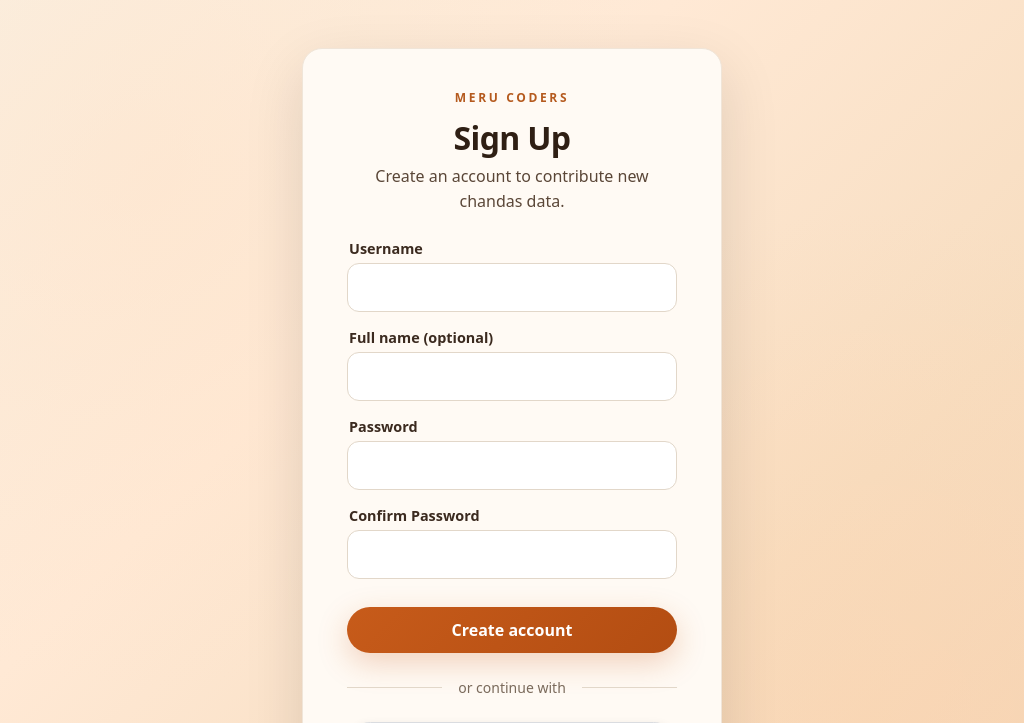
it: SignupPage › rejects a short password and a mismatched confirmation
Type " panini " into the field labelled "Username" at (512, 288), box x1=347 y1=263 x2=677 y2=312
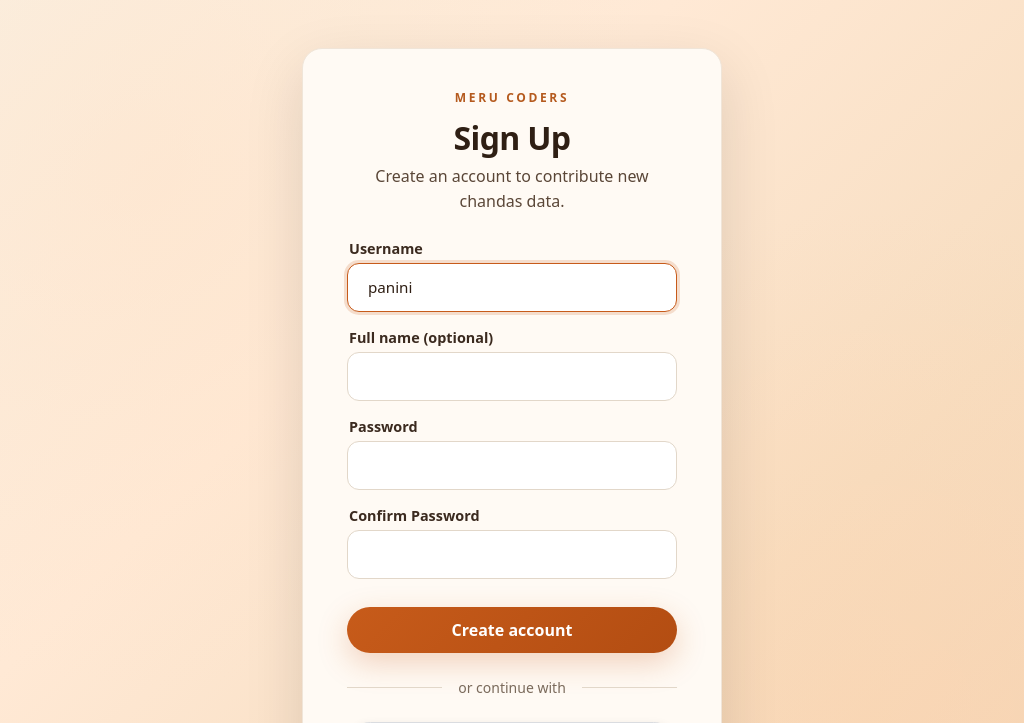
Type "short" into the password field labelled "Password" at (512, 465), box x1=347 y1=441 x2=677 y2=490
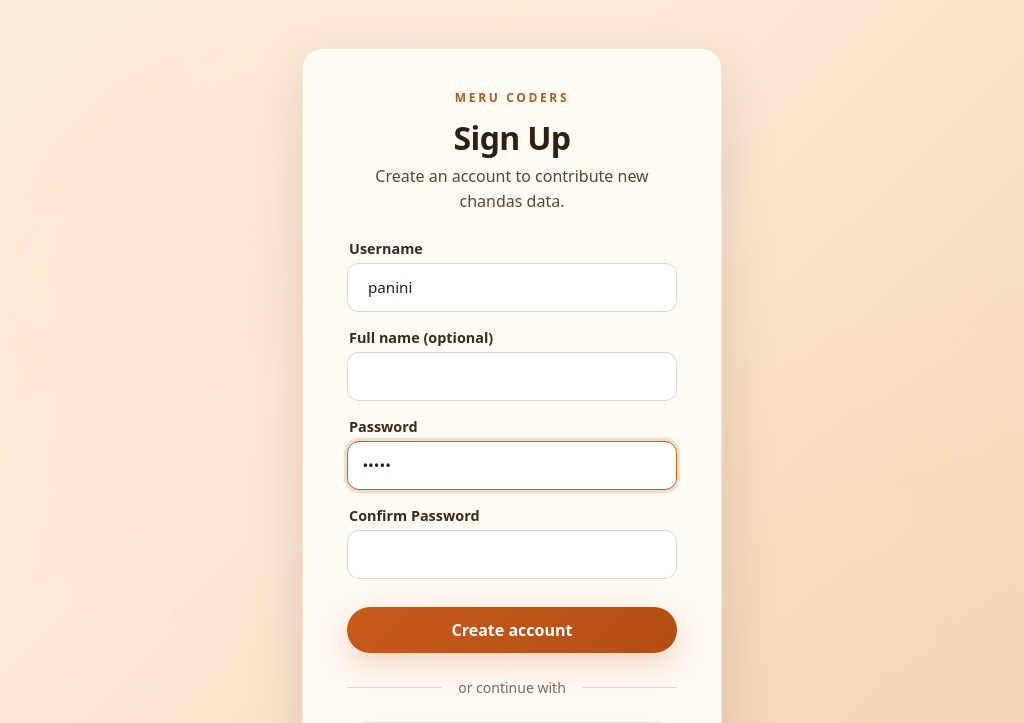
Type "other" into the password field labelled "Confirm Password" at (512, 554), box x1=347 y1=530 x2=677 y2=579
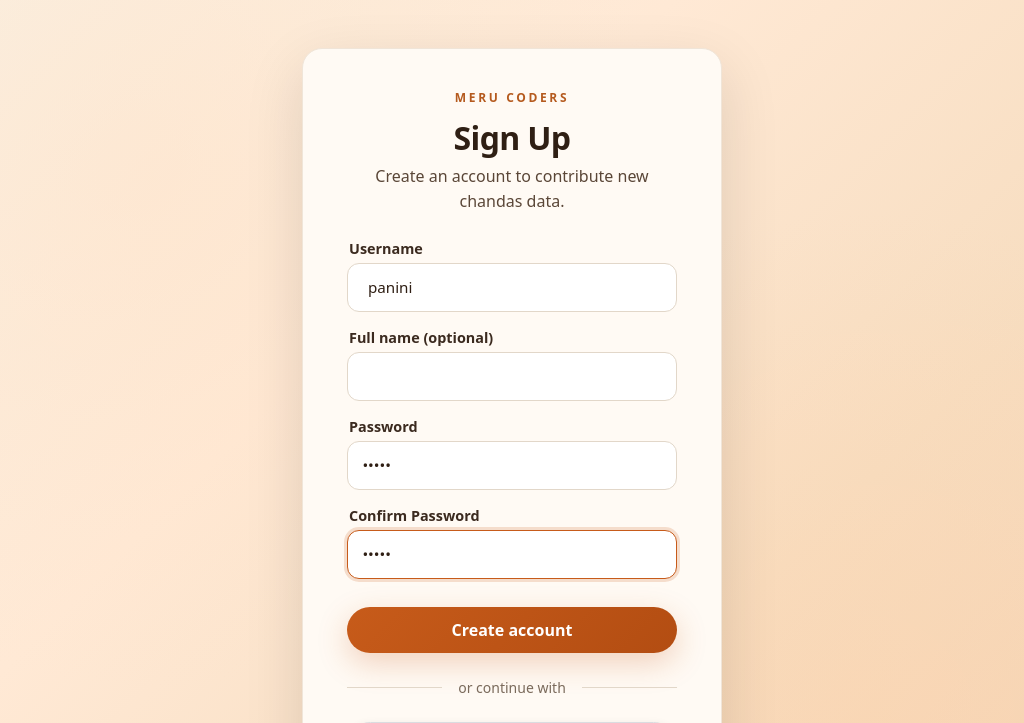
Click the button "Create account" at (512, 630), box x1=347 y1=607 x2=677 y2=653
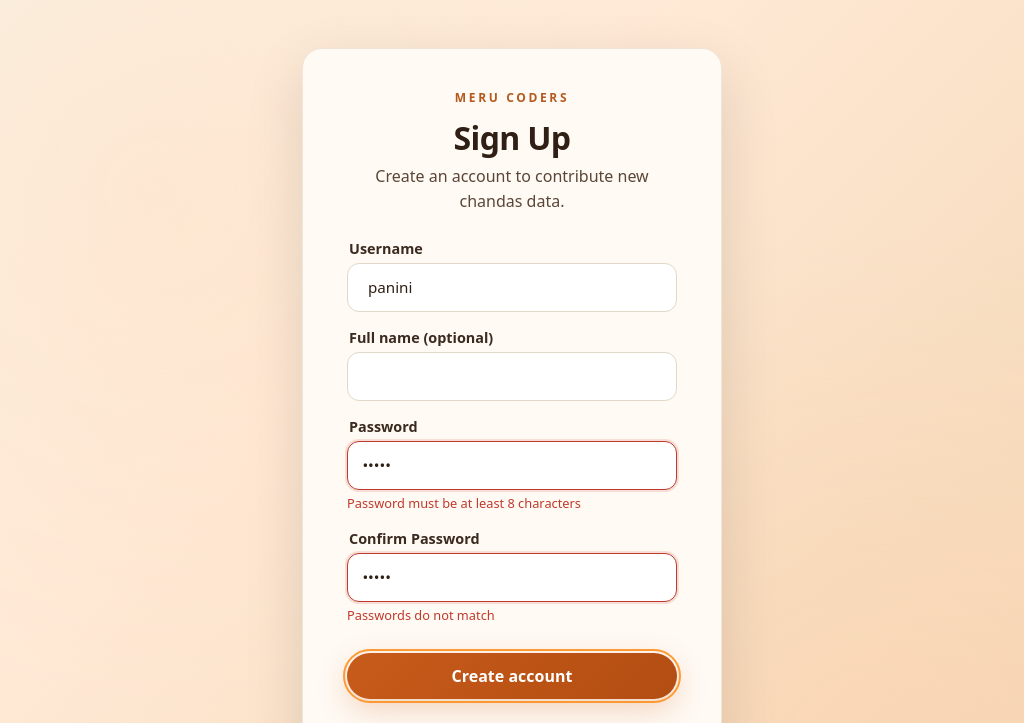
Now the text "Password must be at least 8 characters" is shown, box x1=347 y1=494 x2=581 y2=512
Now the text "Passwords do not match" is shown, box x1=347 y1=606 x2=495 y2=624
